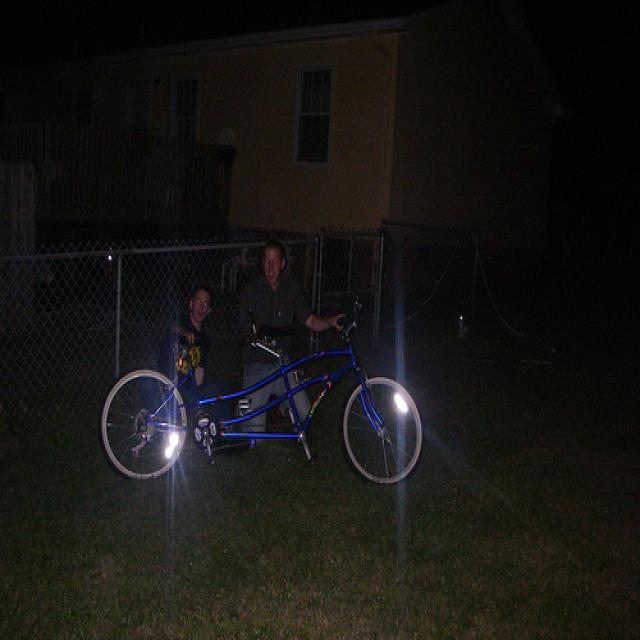Bicycle: (90, 341, 440, 526)
People: (146, 268, 239, 387), (245, 231, 324, 367)
